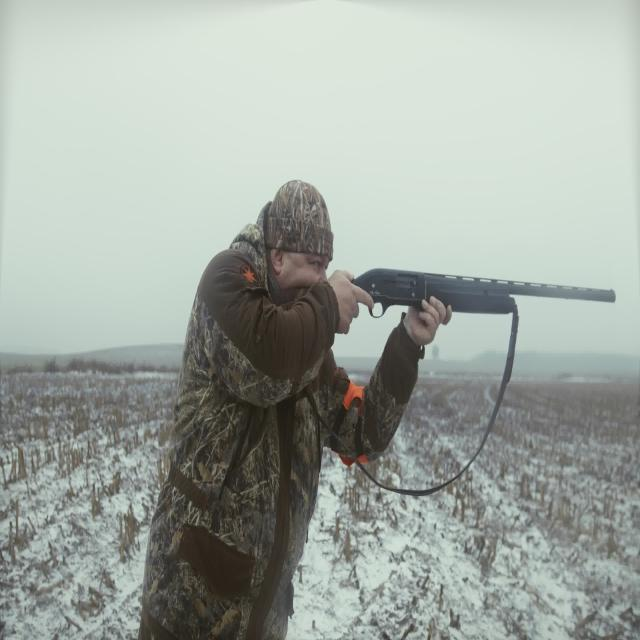poacher: (240, 216, 420, 636)
weapon: (333, 266, 612, 354)
